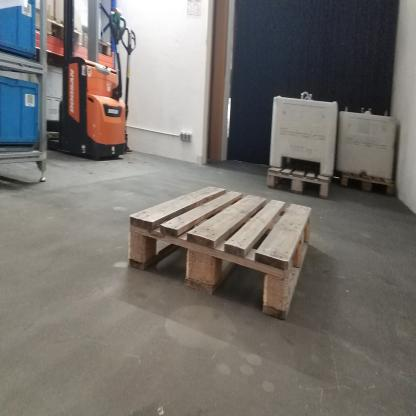BoxFace: (123, 181, 314, 325)
